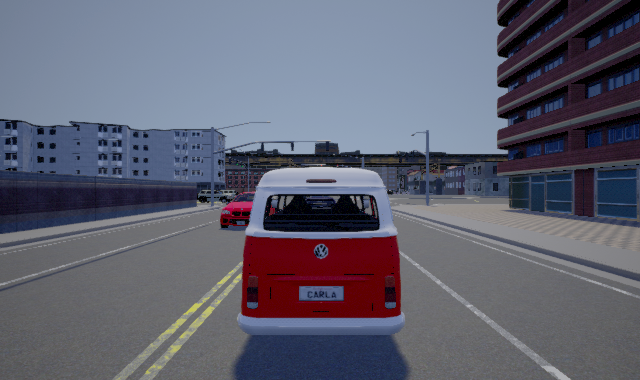vehicle: (244, 164, 405, 335), (219, 190, 255, 232)
